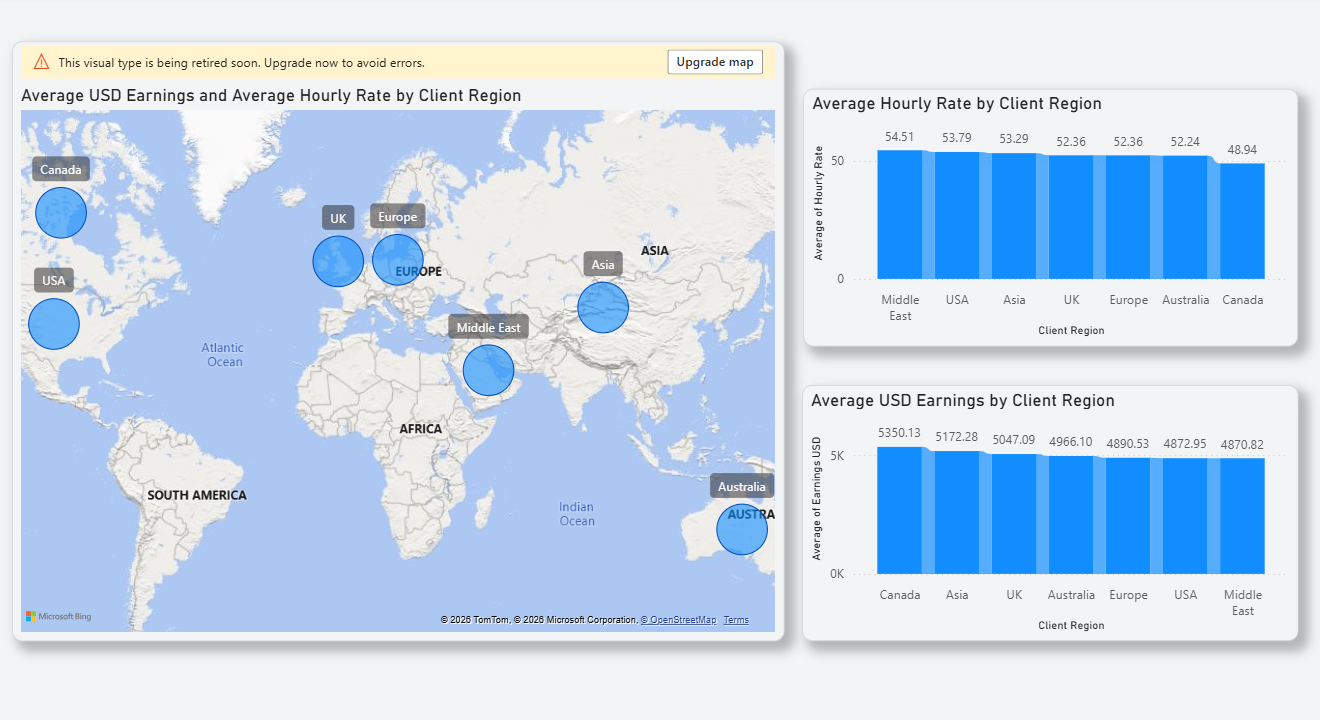

This screenshot's page, from the dashboard's own definition file:
{"tool":"powerbi","page":{"name":"Client Region","canvas":[1280,720],"ordinal":7},"visuals":[{"type":"map","title":"Average USD Earnings and Average Hourly Rate by Client Region","fields":{"Category":["freelancer_earnings_bd - freelancer_earnings_bd csv csv.Client Region"]},"box":[14.5,44.6,745.6,579.1],"z":0},{"type":"columnChart","title":"Average Hourly Rate by Client Region","fields":{"Category":["freelancer_earnings_bd - freelancer_earnings_bd csv csv.Client Region"],"Y":["Avg(freelancer_earnings_bd - freelancer_earnings_bd csv csv.Hourly Rate)"]},"box":[778.2,90.5,477.8,248.5],"z":1000},{"type":"columnChart","title":"Average USD Earnings by Client Region","fields":{"Category":["freelancer_earnings_bd - freelancer_earnings_bd csv csv.Client Region"],"Y":["Avg(freelancer_earnings_bd - freelancer_earnings_bd csv csv.Earnings USD)"]},"box":[776.9,376.4,479,247.3],"z":2000}]}

Visuals, with their boxes on the page's 1280x720 design canvas (x1, y1, x2, y2). These are canvas units, not pixel positions in the 1320x720 screenshot, which may show the page scaled, cropped or inside an application window:
"Average USD Earnings and Average Hourly Rate by Client Region" map: bbox=[14, 45, 760, 624]
"Average Hourly Rate by Client Region" columnChart: bbox=[778, 90, 1256, 339]
"Average USD Earnings by Client Region" columnChart: bbox=[777, 376, 1256, 624]
